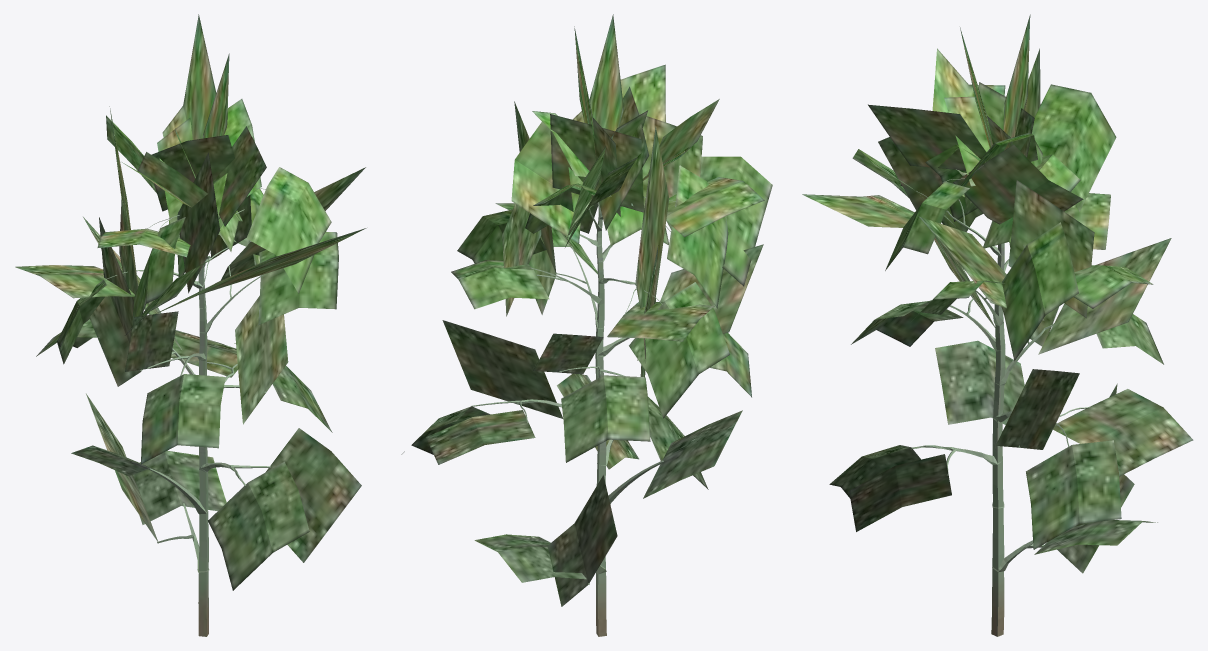
The model's file is tree.obj.
The picture shows the model from 3 angles, left to right: view 1: azimuth 30°, elevation 25°; view 2: azimuth 150°, elevation 25°; view 3: azimuth 270°, elevation 25°; orthographic projection. The views are drawn at different scales.
Visible parts, largest first — view 1: Oak_Tree; view 2: Oak_Tree; view 3: Oak_Tree.
Part boxes in pixels (x1,y1,x2,y2): Oak_Tree: (15, 14, 366, 636); Oak_Tree: (401, 14, 772, 636); Oak_Tree: (802, 14, 1193, 636).
Bounding box in the file's own units: 0.1291 × 0.2653 × 0.1507.
